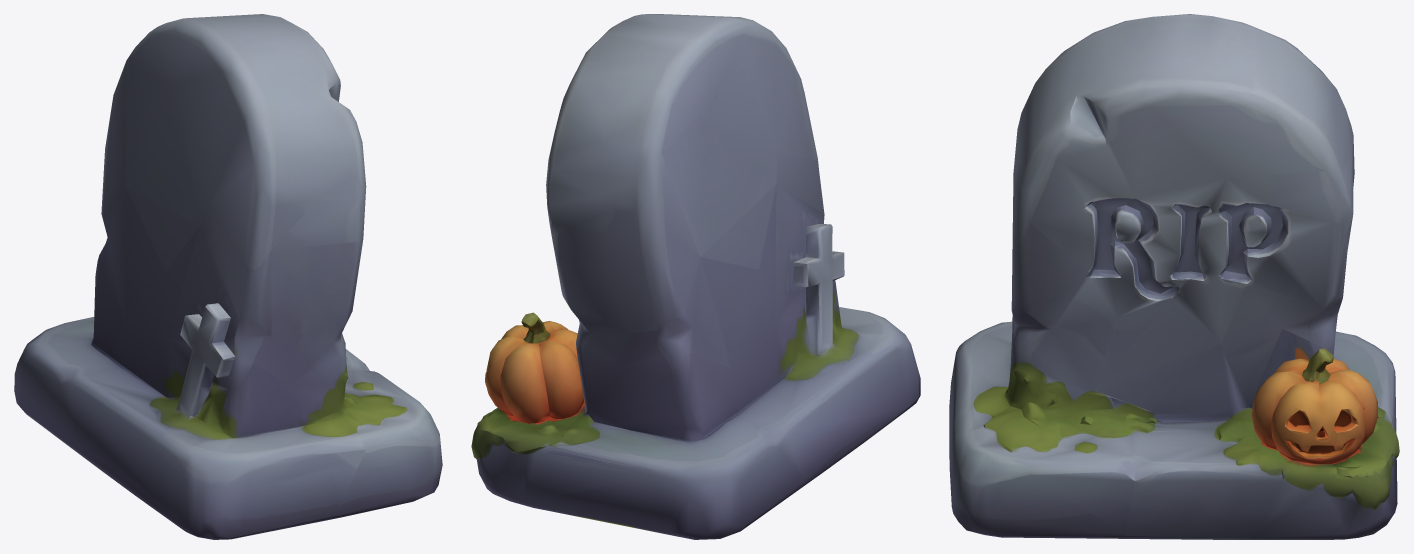
The model's file is S12_Gravestone_LOD1.fbx.
3 views of the same model, side by side, from view 1: azimuth 30°, elevation 25°; view 2: azimuth 150°, elevation 25°; view 3: azimuth 270°, elevation 25° (orthographic). The views are drawn at different scales.
Visible parts, largest first — view 1: S12_Gravestone_LOD1; view 2: S12_Gravestone_LOD1; view 3: S12_Gravestone_LOD1.
Part boxes in pixels (x1,y1,x2,y2): S12_Gravestone_LOD1: (14,14,442,539); S12_Gravestone_LOD1: (471,14,920,539); S12_Gravestone_LOD1: (949,14,1399,539).
Size of the model in its own units: 0.5946 by 0.9012 by 0.8096.
Materials: 1 (1 with a texture image).
